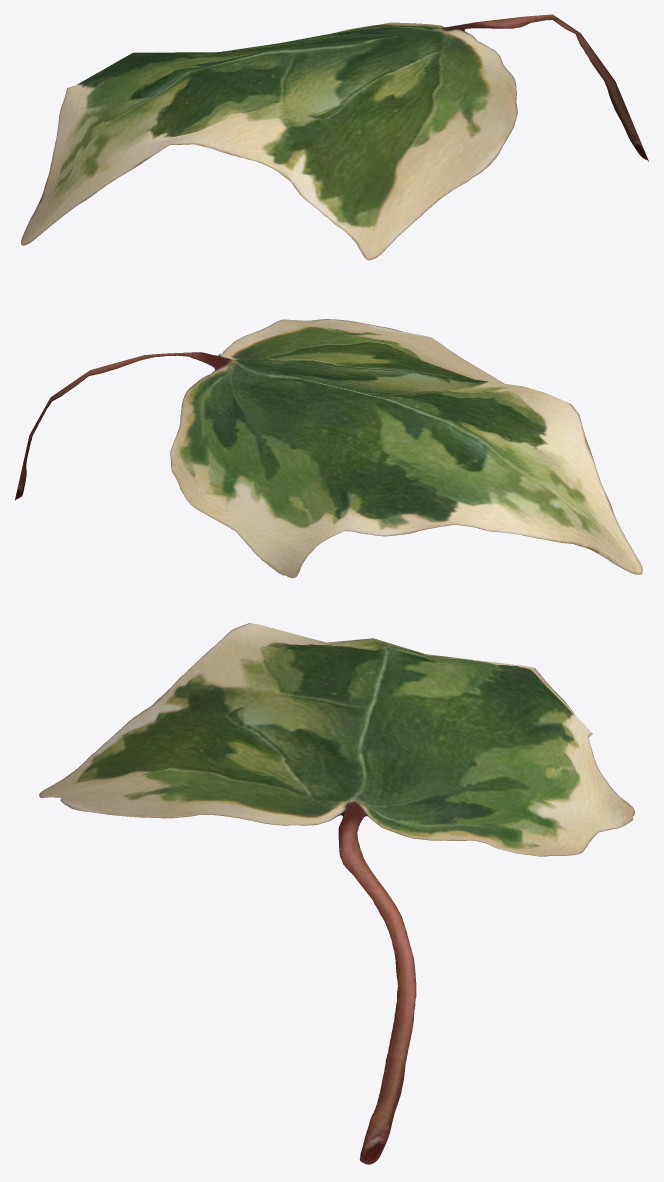
Rendered from hedraleave2.fbx.
The picture shows the model from 3 angles, top to bottom: view 1: azimuth 30°, elevation 25°; view 2: azimuth 150°, elevation 25°; view 3: azimuth 270°, elevation 25°; orthographic projection. The views are drawn at different scales.
Visible parts, largest first — view 1: hedraleave2; view 2: hedraleave2; view 3: hedraleave2.
Boxes of the visible parts, x1,y1,x2,y2 form: hedraleave2: (21,14,648,260); hedraleave2: (15,319,642,578); hedraleave2: (39,623,635,1164).
Size of the model in its own units: 0.8403 by 0.2508 by 0.5816.
